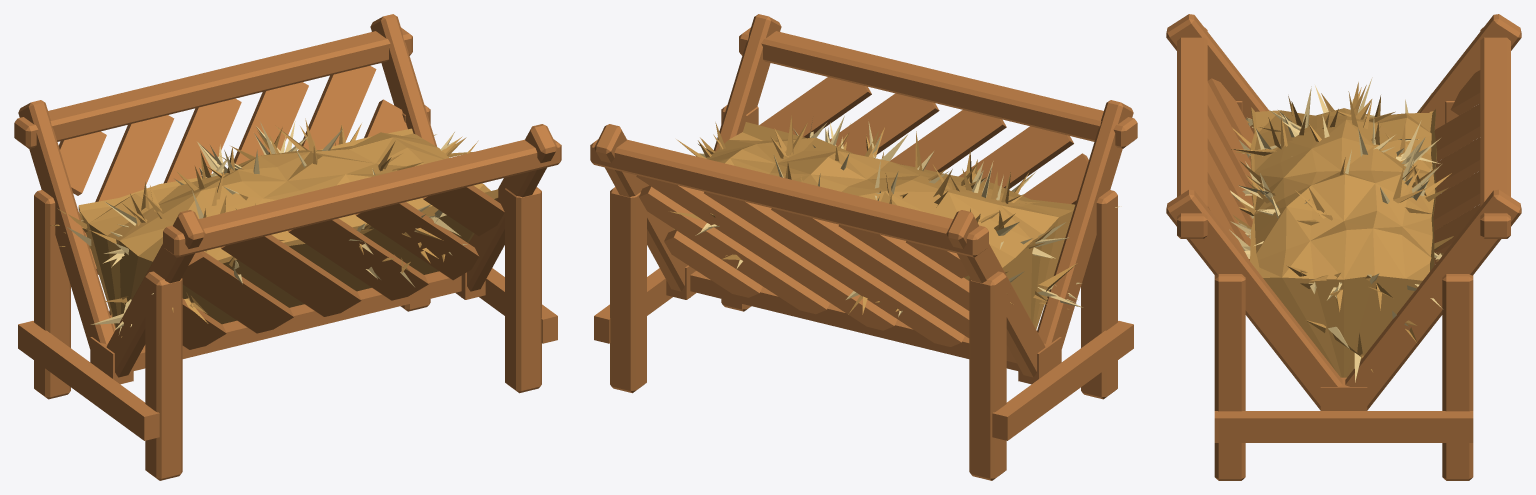
Rendered from partial.glb.
3 renders of one model, left to right at view 1: azimuth 30°, elevation 25°; view 2: azimuth 150°, elevation 25°; view 3: azimuth 270°, elevation 25°, orthographic. The views are drawn at different scales.
Visible parts, largest first — view 1: frame, slats, hay, straw_gold, straw_light; view 2: frame, slats, hay, straw_gold, straw_light; view 3: frame, hay, slats, straw_gold, straw_light.
Part boxes in pixels (<box>): frame: <box>14,14,561,480</box>; slats: <box>58,66,504,349</box>; hay: <box>78,128,498,328</box>; straw_gold: <box>50,118,478,337</box>; straw_light: <box>67,121,467,334</box>; frame: <box>590,14,1137,480</box>; slats: <box>636,77,1088,363</box>; hay: <box>673,122,1075,329</box>; straw_gold: <box>670,115,1077,314</box>; straw_light: <box>695,116,1121,316</box>; frame: <box>1166,14,1521,480</box>; hay: <box>1250,107,1436,377</box>; slats: <box>1207,70,1480,265</box>; straw_gold: <box>1231,82,1453,372</box>; straw_light: <box>1229,77,1442,382</box>.
Size of the model in its own units: 1.36 by 0.8619 by 0.9826.
